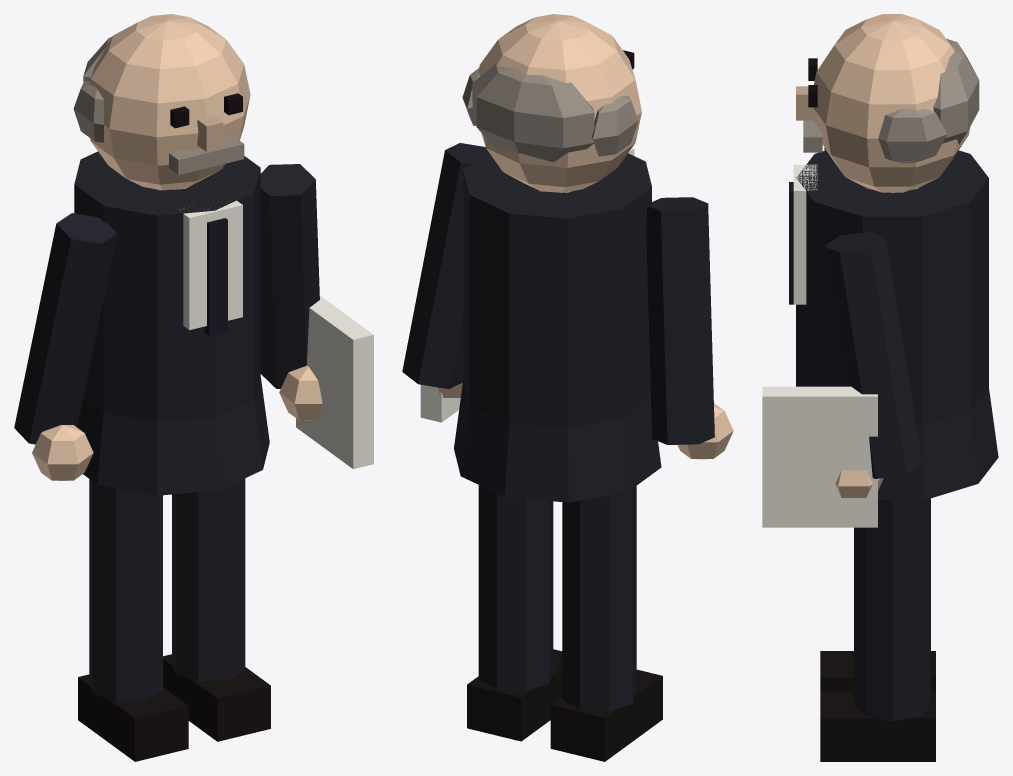
Rendered from przechodzien_5.glb.
3 renders of one model, left to right at view 1: azimuth 30°, elevation 25°; view 2: azimuth 150°, elevation 25°; view 3: azimuth 270°, elevation 25°, orthographic.
Parts seen in each view (by area): view 1: cialo, reka_p, noga_l, noga_p, reka_l; view 2: cialo, noga_l, noga_p, reka_l, reka_p; view 3: cialo, reka_p, noga_p, noga_l.
Part boxes in pixels (x1,y1,x2,y2): cialo: (73,14,269,495); reka_p: (260,164,373,469); noga_l: (78,479,188,761); noga_p: (163,478,270,741); reka_l: (14,213,116,480); cialo: (454,14,661,502); noga_l: (550,486,662,761); noga_p: (467,485,562,741); reka_l: (646,197,733,459); reka_p: (402,143,488,422); cialo: (789,14,998,499); reka_p: (762,232,922,527); noga_p: (820,498,935,761); noga_l: (820,651,935,691).
Bounding box in the file's own units: 0.7126 × 1.62 × 0.49.
